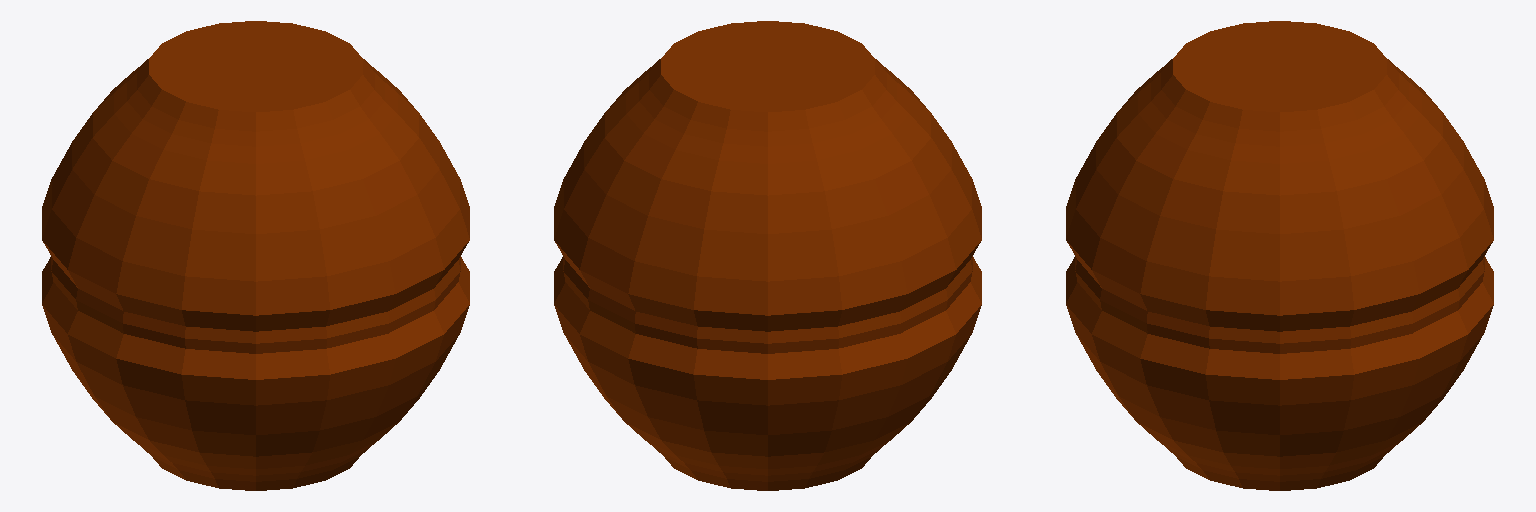
File: Barril.obj
3 views of the same model, side by side, from view 1: azimuth 30°, elevation 25°; view 2: azimuth 150°, elevation 25°; view 3: azimuth 270°, elevation 25° (orthographic).
Parts seen in each view (by area): view 1: Barril; view 2: Barril; view 3: Barril.
Part boxes in pixels (bbox=[...]): Barril: bbox=[42, 21, 469, 490]; Barril: bbox=[554, 21, 981, 490]; Barril: bbox=[1066, 21, 1493, 490].
Size of the model in its own units: 19.79 by 19.02 by 19.49.